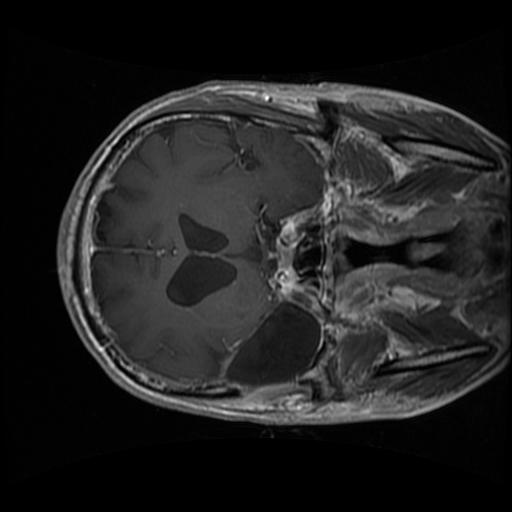glioma: (212, 301, 323, 399)
